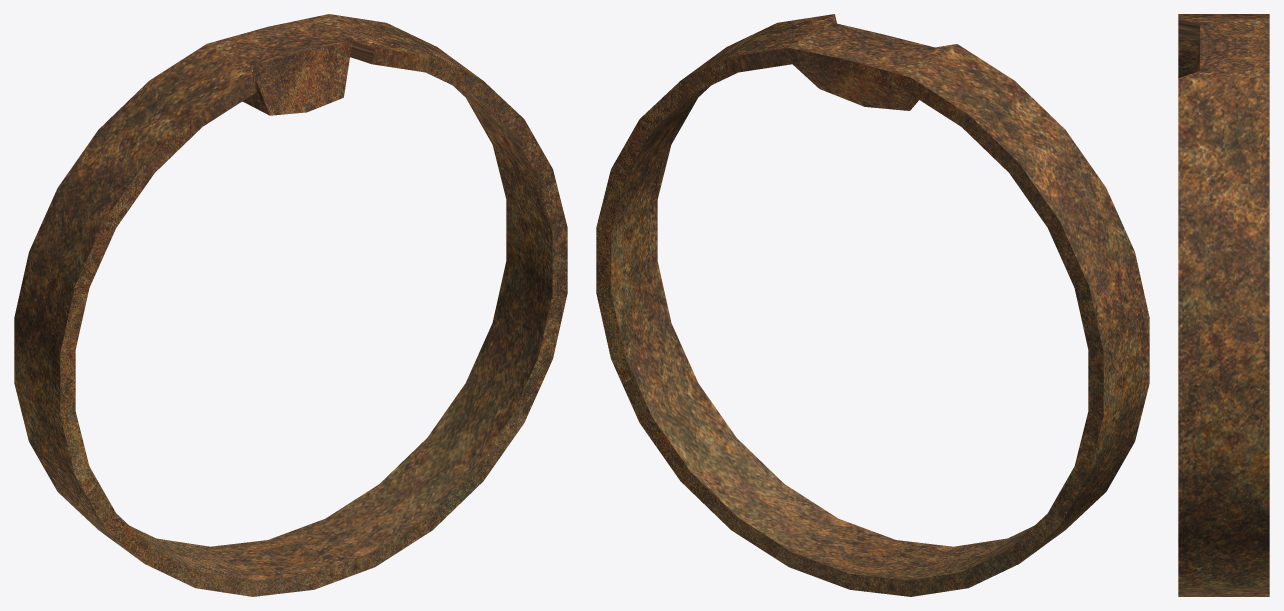
The model's file is clockframe.FBX.
The picture shows the model from 3 angles, left to right: view 1: azimuth 30°, elevation 25°; view 2: azimuth 150°, elevation 25°; view 3: azimuth 270°, elevation 25°; orthographic projection.
Parts seen in each view (by area): view 1: clockframe; view 2: clockframe; view 3: clockframe.
Part boxes in pixels (x1=…): clockframe: x1=14, y1=14, x2=567, y2=596; clockframe: x1=596, y1=14, x2=1149, y2=596; clockframe: x1=1178, y1=14, x2=1269, y2=596.
Size of the model in its own units: 235 by 234 by 37.04.
Materials: 1 (1 with a texture image).
